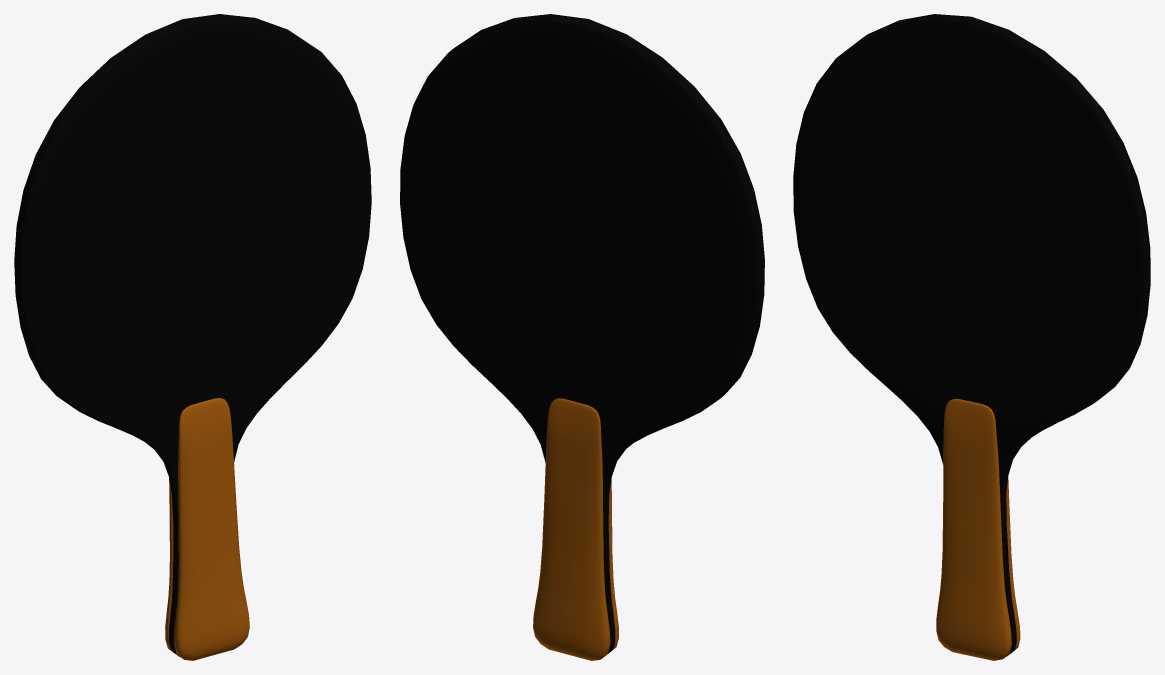
The model's file is Animated_Tracker.fbx.
3 views of the same model, side by side, from view 1: azimuth 30°, elevation 25°; view 2: azimuth 150°, elevation 25°; view 3: azimuth 330°, elevation 25° (orthographic). The views are drawn at different scales.
Visible parts, largest first — view 1: racket; view 2: racket; view 3: racket.
Boxes of the visible parts, x1=… form: racket: x1=14, y1=14, x2=371, y2=660; racket: x1=400, y1=14, x2=764, y2=660; racket: x1=793, y1=14, x2=1150, y2=660.
Size of the model in its own units: 16.65 by 28.48 by 1.52.
